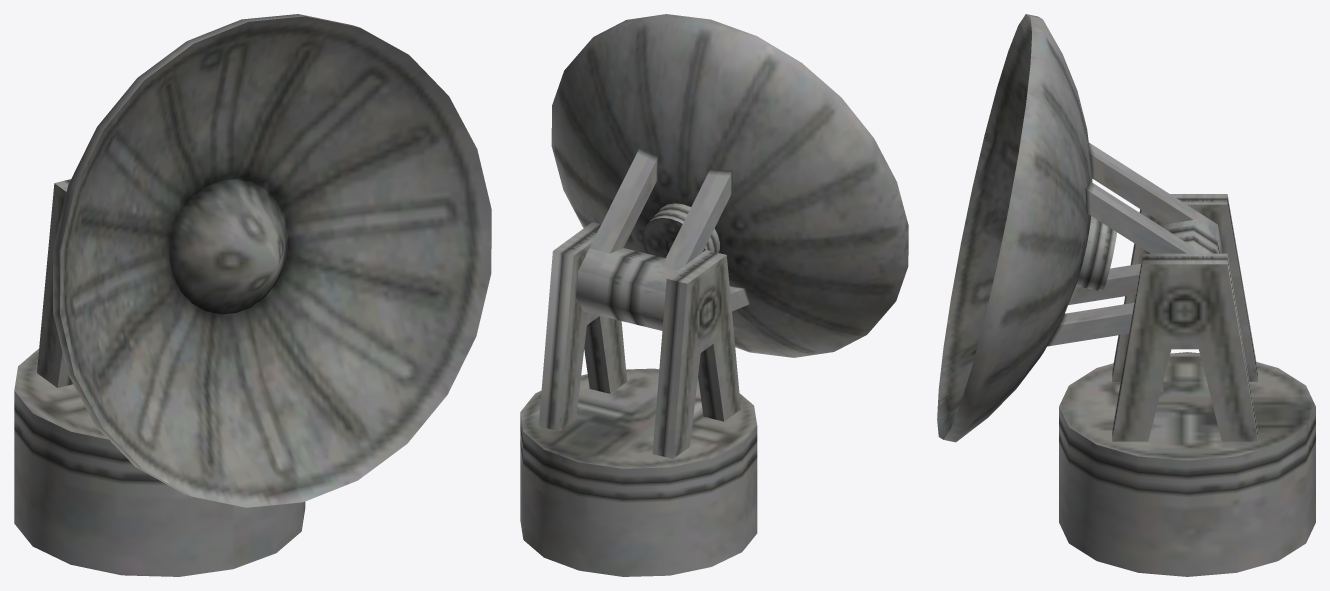
The model's file is sorosuub_space_yacht_radar_s01_l0.fbx.
The picture shows the model from 3 angles, left to right: view 1: azimuth 30°, elevation 25°; view 2: azimuth 150°, elevation 25°; view 3: azimuth 270°, elevation 25°; orthographic projection. The views are drawn at different scales.
Visible parts, largest first — view 1: mesh_node; view 2: mesh_node; view 3: mesh_node.
Part boxes in pixels (x1,y1,x2,y2): mesh_node: (14,14,491,576); mesh_node: (520,14,908,576); mesh_node: (937,14,1315,576).
Bounding box in the file's own units: 3.01 × 3.73 × 2.62.
Materials: 1 (1 with a texture image).
